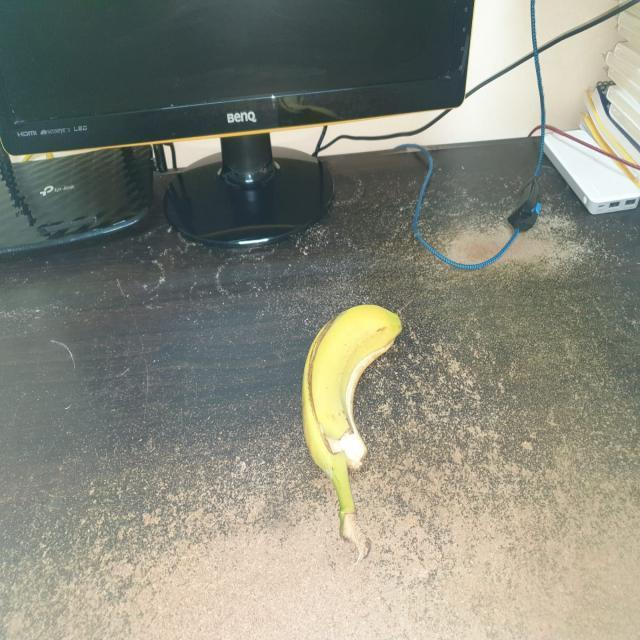banana-peel: (299, 302, 402, 562)
